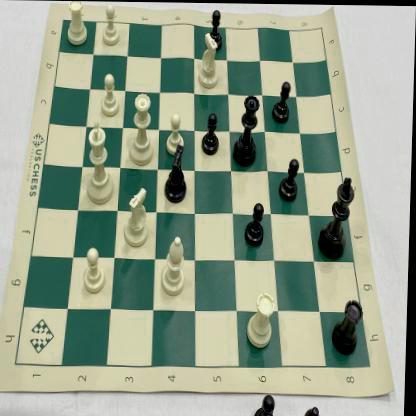black-king: (316, 172, 356, 261)
black-knight: (164, 144, 192, 204)
black-pawn: (244, 200, 268, 248), (278, 157, 301, 204), (199, 112, 222, 158), (204, 6, 226, 52), (272, 80, 292, 126)
black-queen: (233, 90, 262, 170)
black-rook: (330, 294, 368, 358)
white-bishop: (160, 233, 188, 297)
white-king: (84, 120, 118, 207)
white-knight: (124, 186, 154, 250), (196, 30, 221, 90)
white-pawn: (82, 243, 110, 295), (100, 71, 122, 119), (164, 110, 187, 155), (100, 2, 122, 48)
white-queen: (129, 90, 157, 168)
white-rook: (245, 286, 278, 349), (64, 1, 92, 51)
